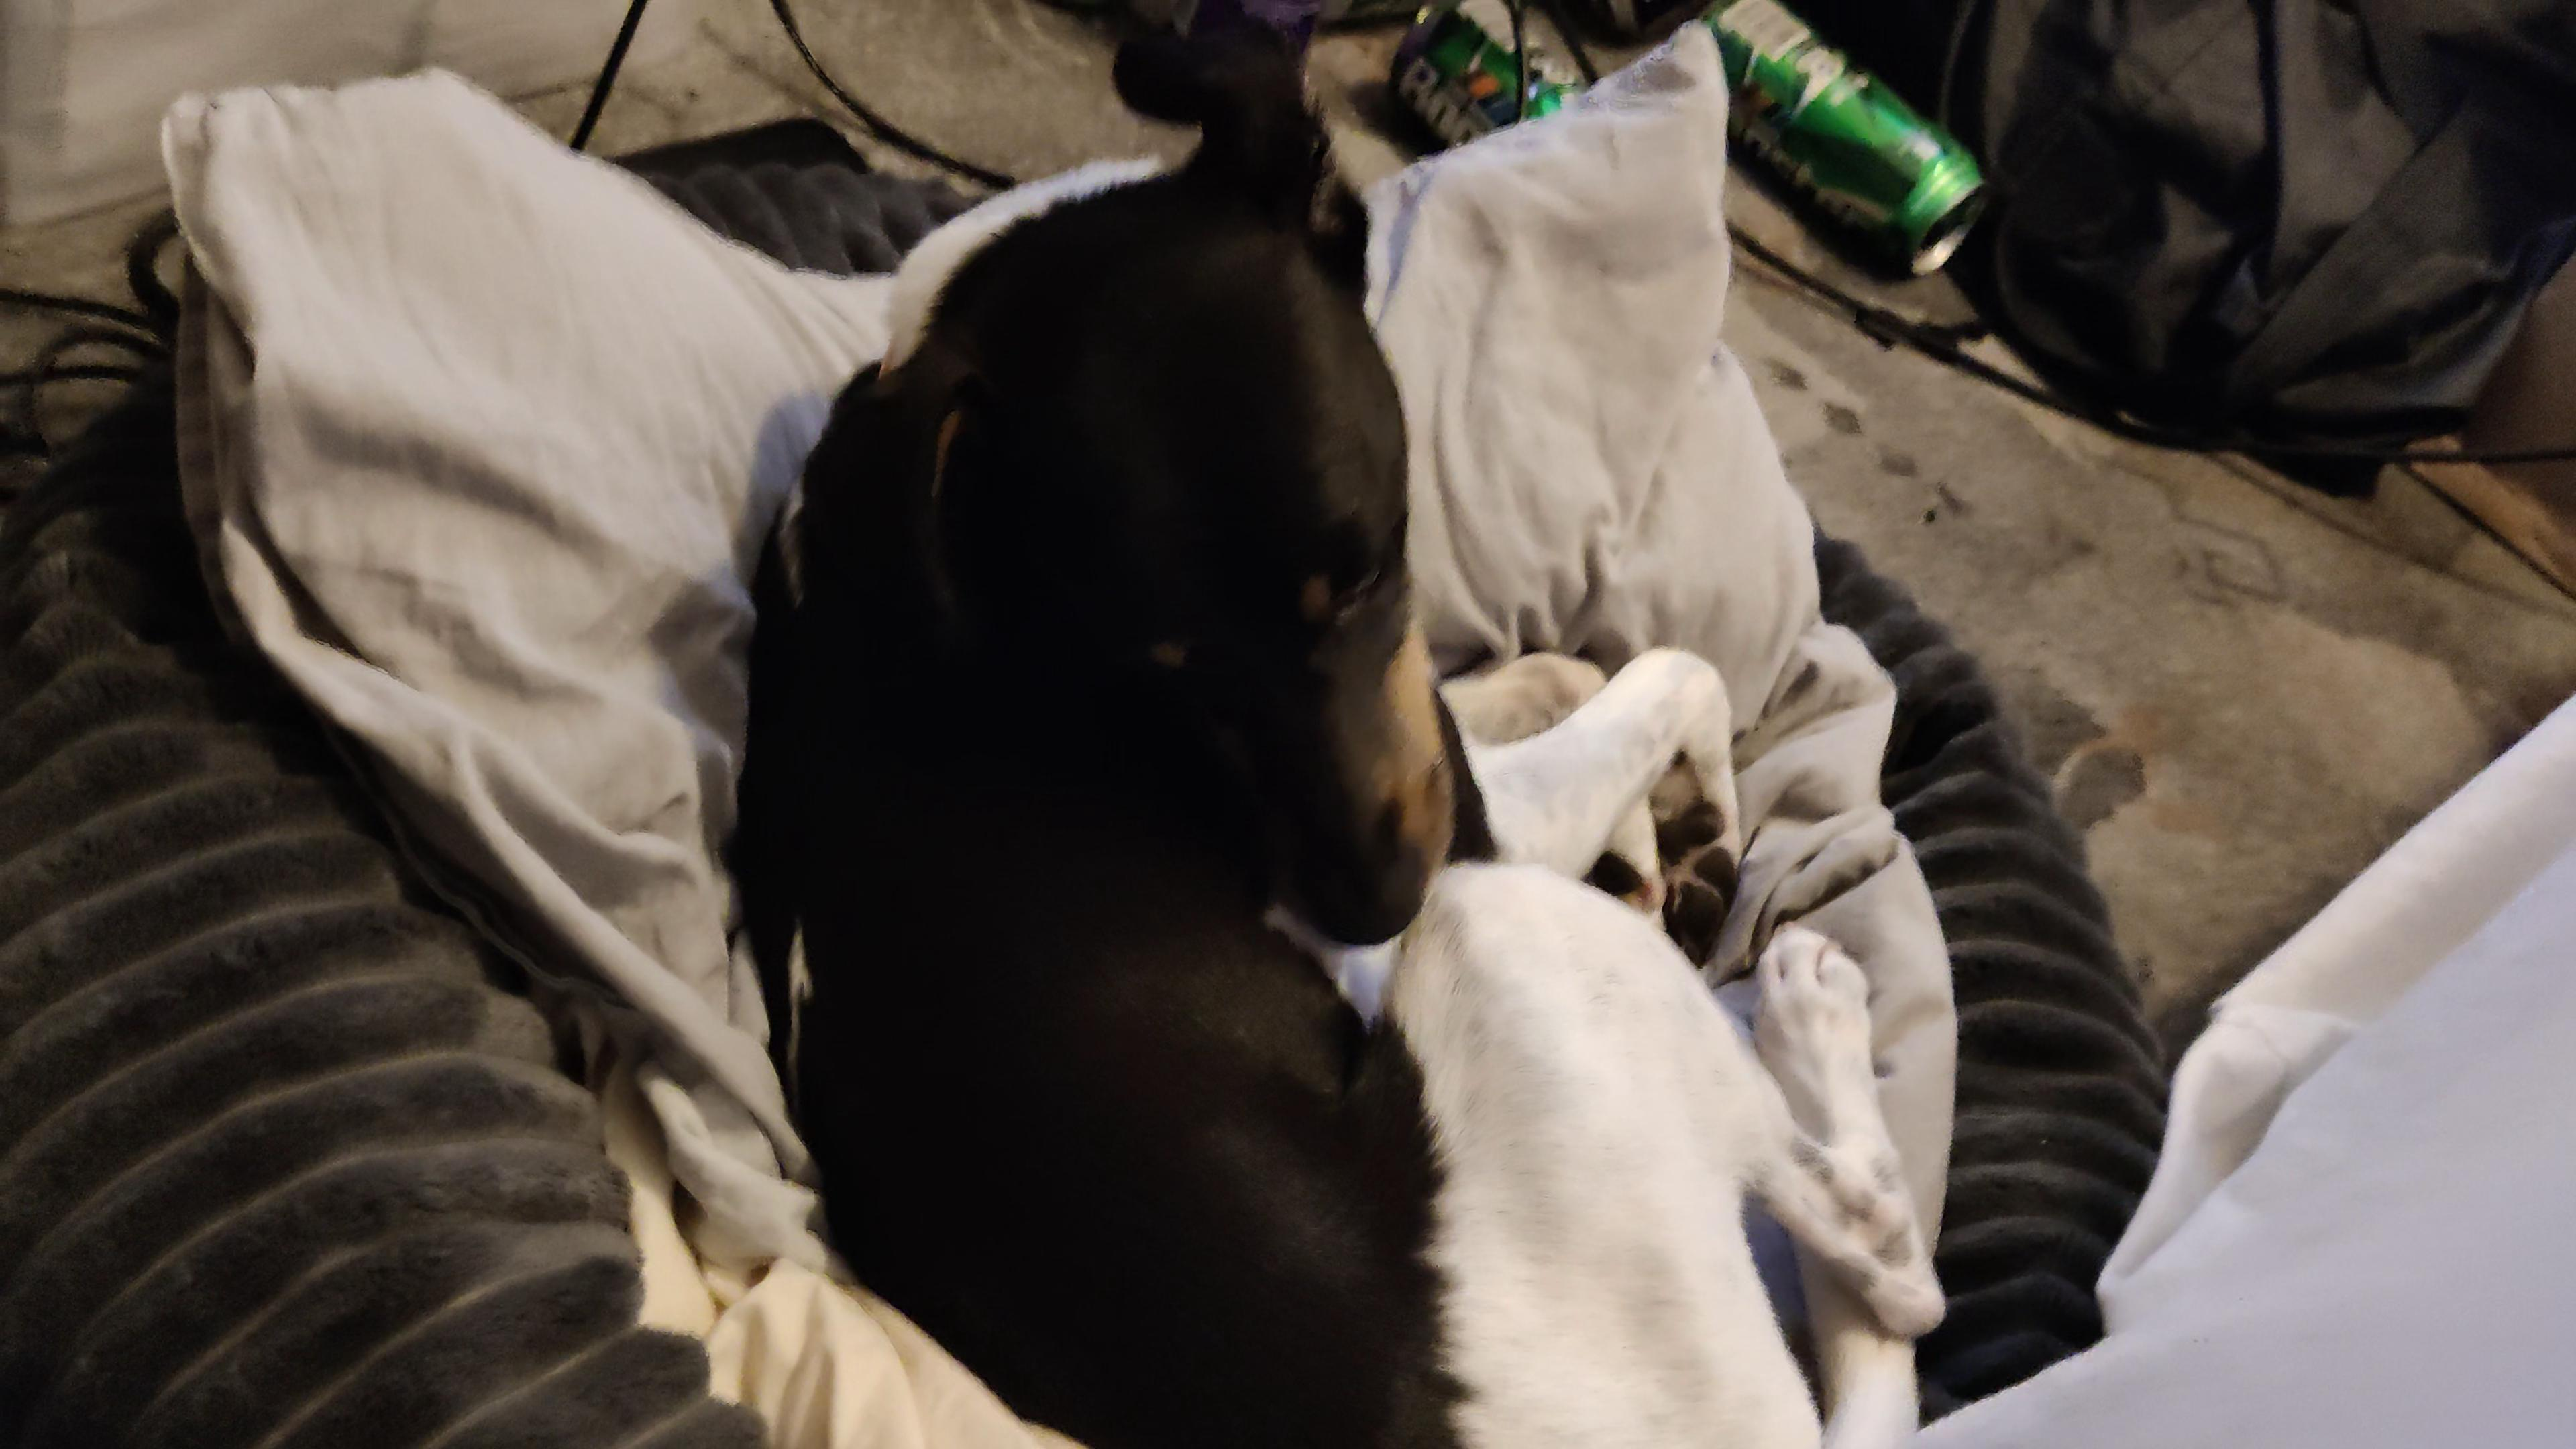Dog: (724, 5, 1978, 1449)
